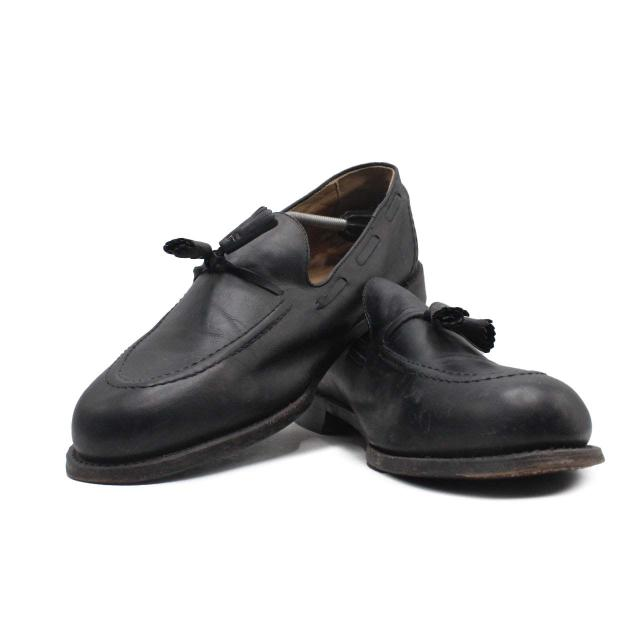heel: (380, 161, 419, 284)
midsole: (65, 316, 363, 486), (328, 401, 604, 480)
uppersole: (72, 206, 395, 461), (333, 276, 593, 460)
